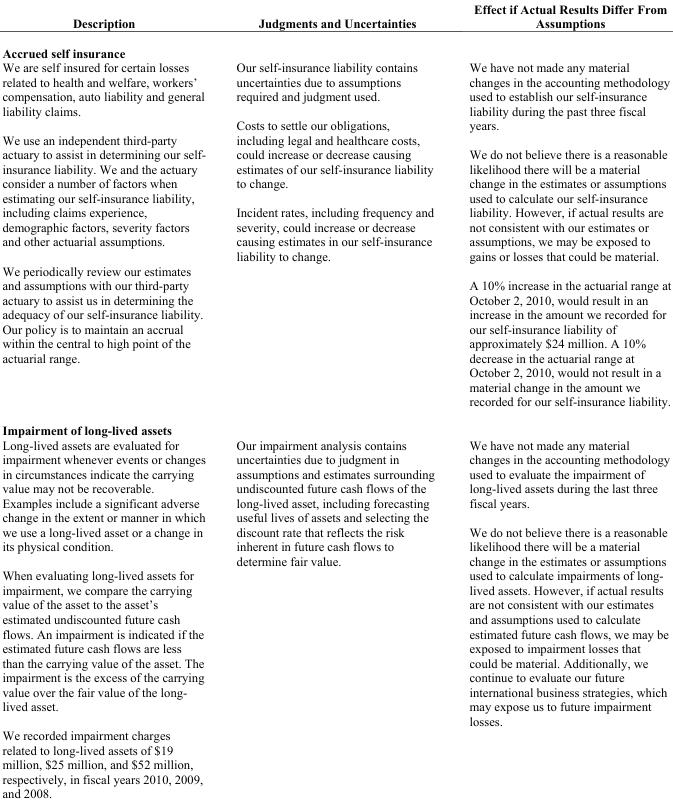table: (1, 1, 670, 799)
table column: (220, 1, 451, 799), (1, 1, 220, 799), (451, 1, 670, 799)
table column header: (1, 1, 670, 37)
table projected row header: (1, 37, 670, 59), (1, 415, 670, 437)
table row: (1, 437, 670, 799), (1, 59, 670, 415), (1, 1, 670, 37), (1, 37, 670, 59), (1, 415, 670, 437)
